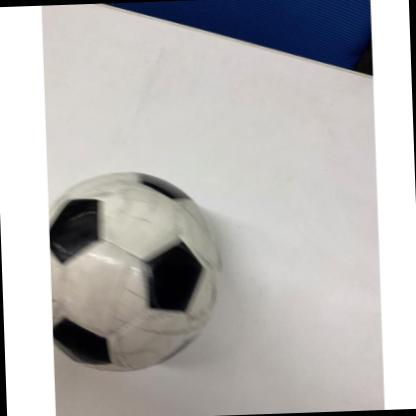ball: (47, 167, 224, 372)
